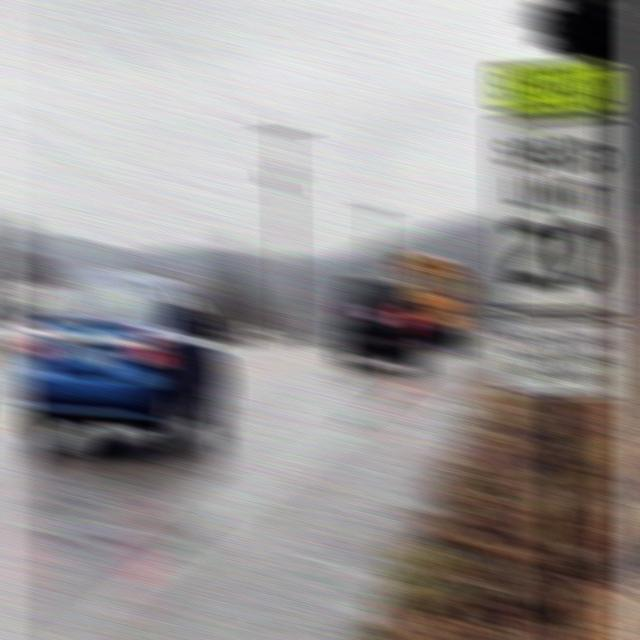speedLimit20: (496, 111, 617, 318)
